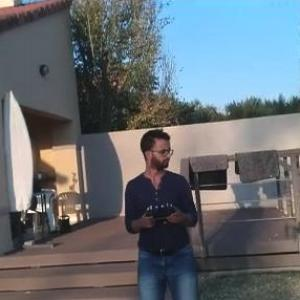follow: (125, 122, 209, 299)
